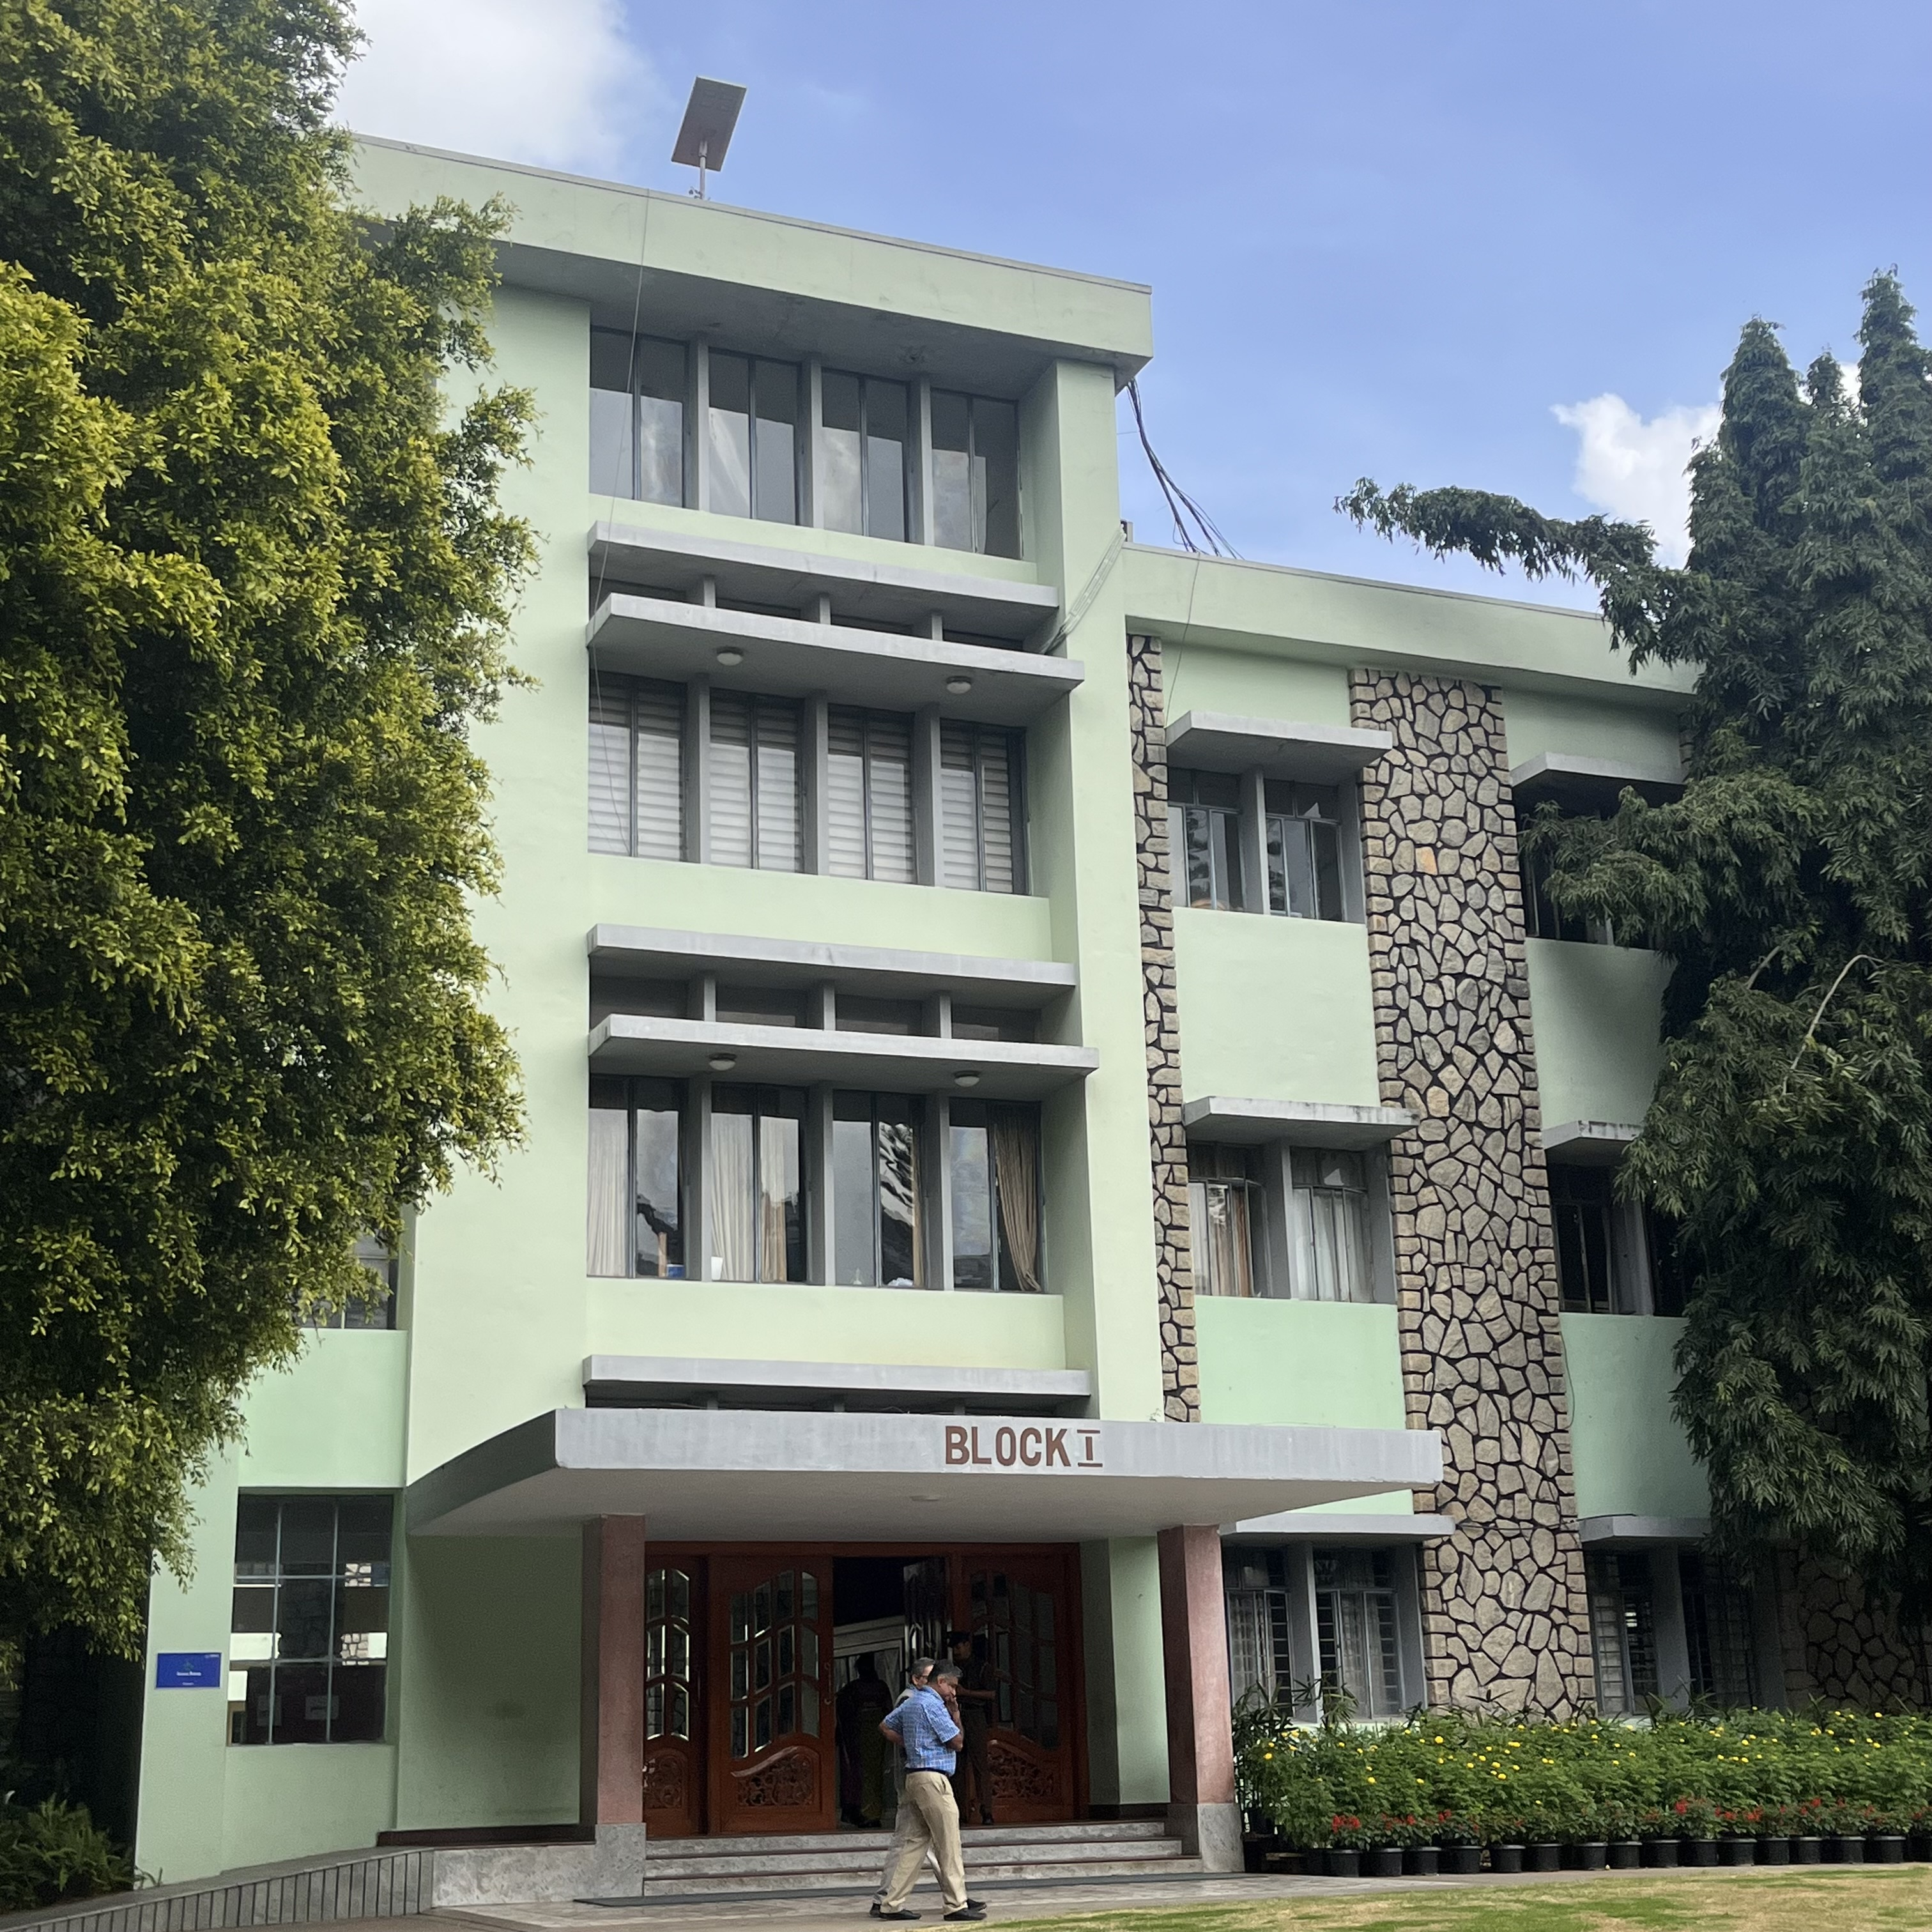Block 1: (439, 103, 1707, 1750)
